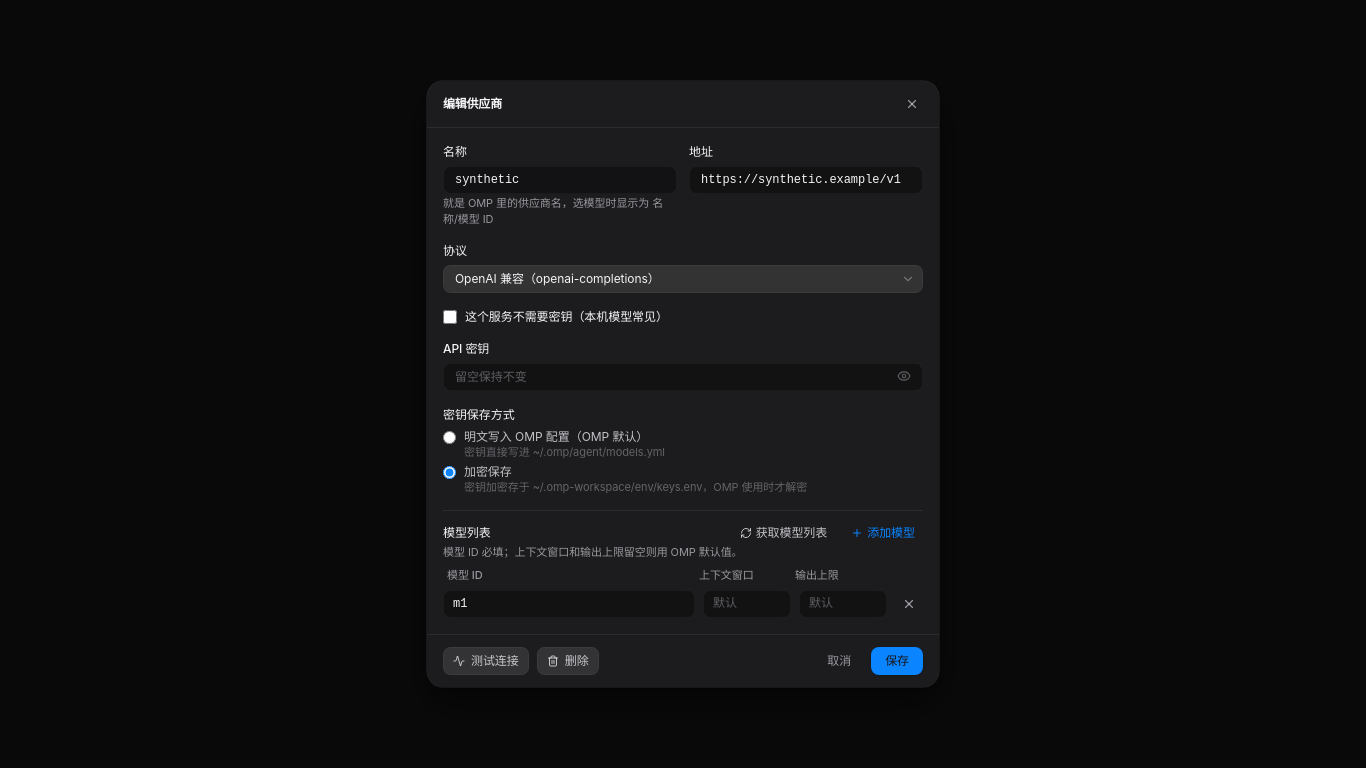
edit dialog › keeps the dialog open when blank-key mode conversion fails
The width and height of the screenshot is (1366, 768).
Step 1. Click the radio button labelled "明文写入 OMP 配置（OMP 默认） 密钥直接写进 ~/.omp/agent/models.yml" → [450, 437], box [443,431,456,444]
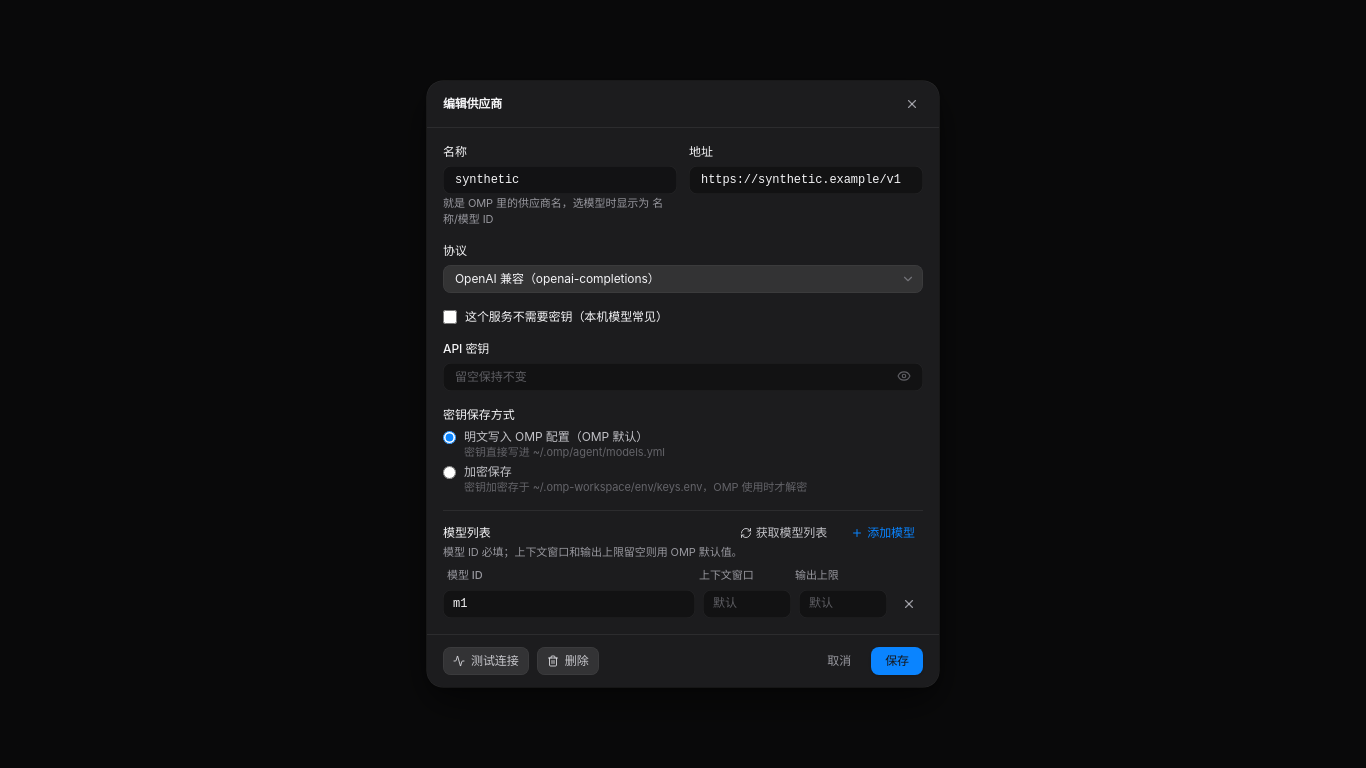
Step 2. Click the button "保存" → [897, 661], box [871,647,923,675]
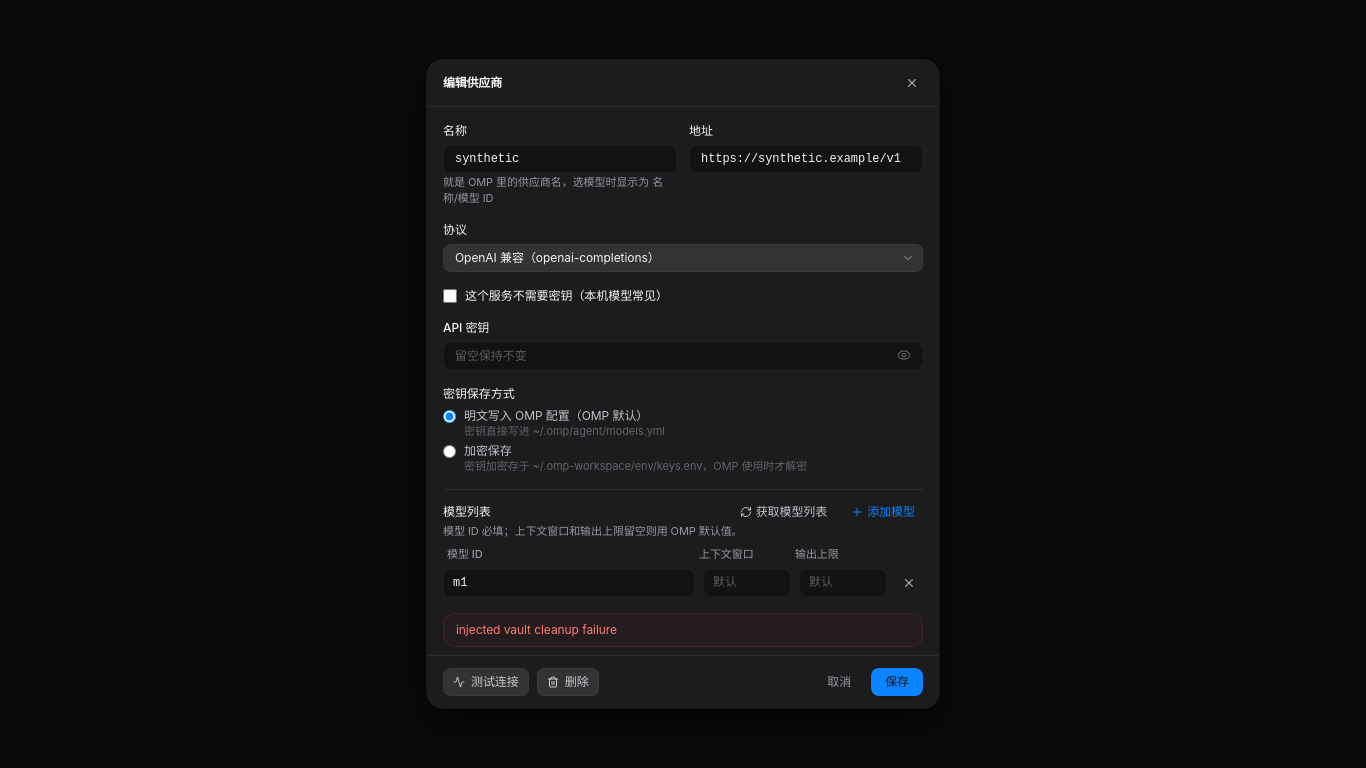
expect the message reads "injected vault cleanup failure": met, box [456,622,617,637]
